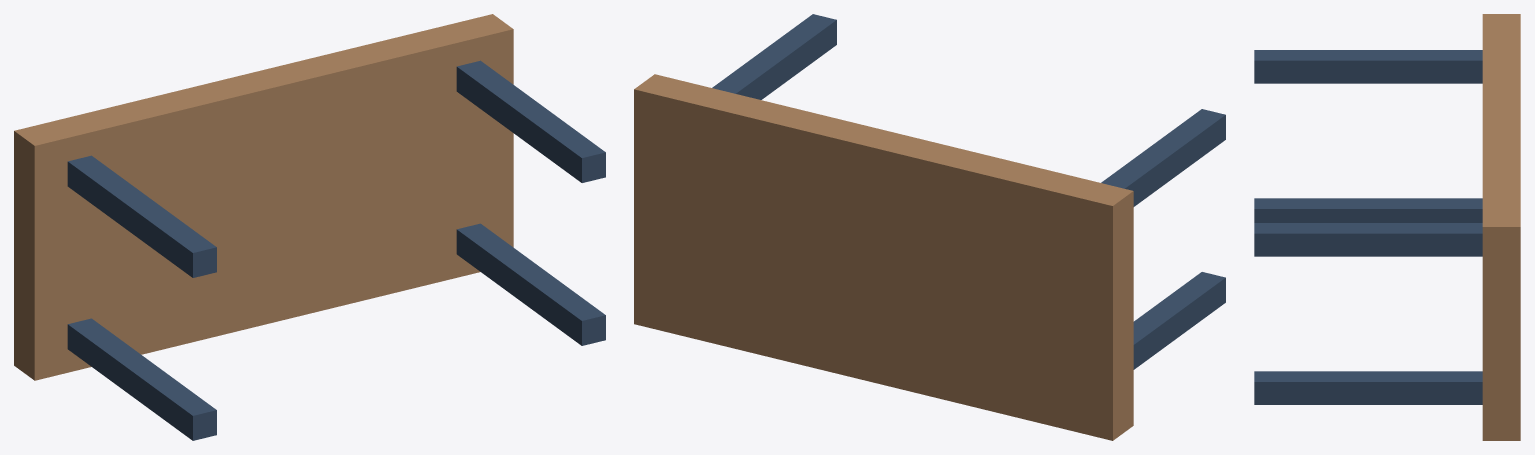
The model's file is desk.glb.
3 renders of one model, left to right at view 1: azimuth 30°, elevation 25°; view 2: azimuth 150°, elevation 25°; view 3: azimuth 270°, elevation 25°, orthographic. The views are drawn at different scales.
Parts seen in each view (by area): view 1: top, leg, leg.002, leg.003, leg.001; view 2: top, leg.001, leg.003, leg; view 3: top, leg.001, leg.002, leg.003, leg.
Boxes of the visible parts, x1,y1,x2,y2 form: top: (14,14,513,380); leg: (67,318,216,440); leg.002: (456,223,605,345); leg.003: (456,60,605,182); leg.001: (67,155,216,277); top: (634,74,1133,440); leg.001: (1101,109,1225,206); leg.003: (712,14,836,99); leg: (1133,272,1225,369); top: (1482,14,1520,440); leg.001: (1254,50,1482,83); leg.002: (1254,371,1482,404); leg.003: (1254,223,1482,256); leg: (1254,198,1482,222).
Bounding box in the file's own units: 1.6 × 0.75 × 0.845.
